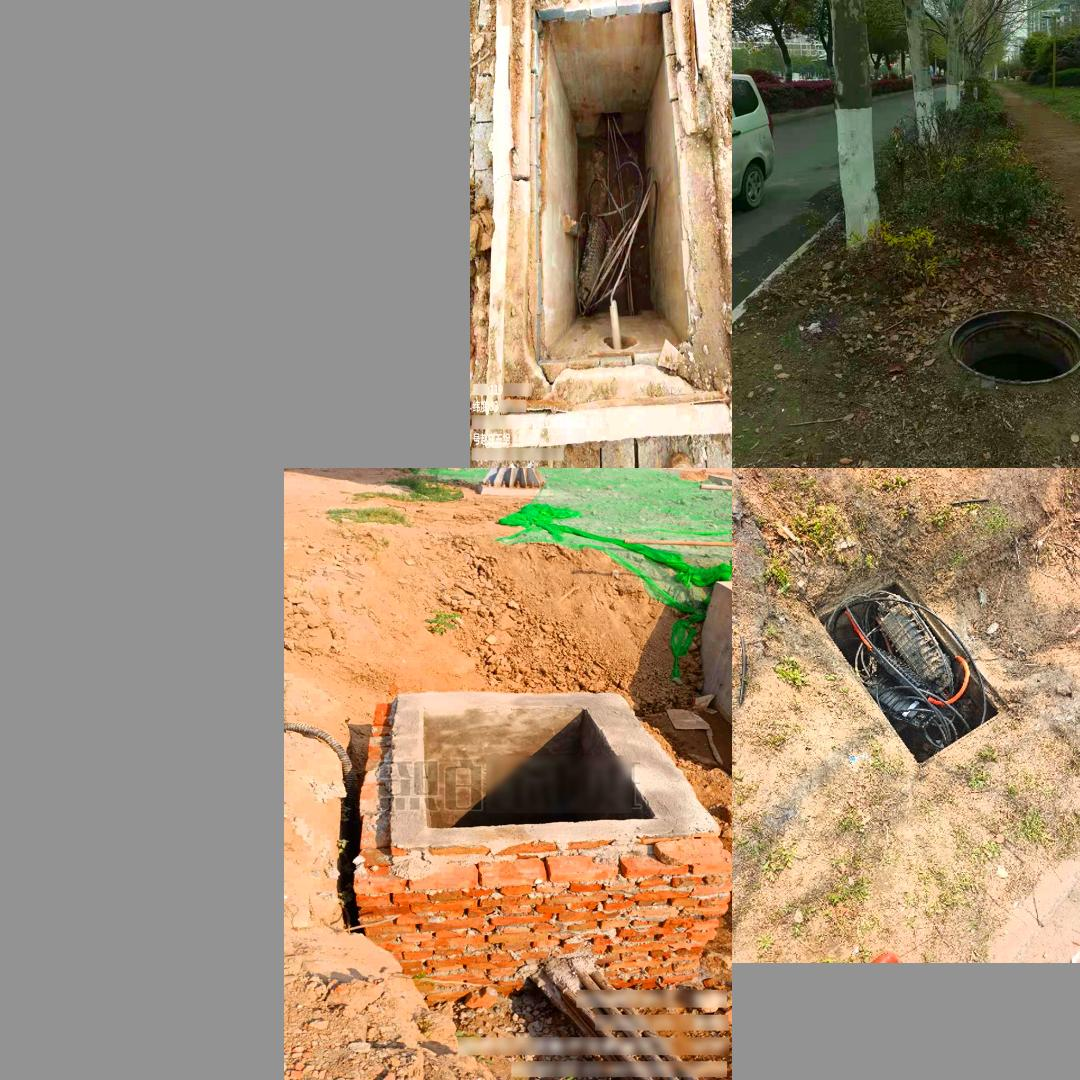lose: (484, 0, 732, 450), (389, 693, 719, 847), (807, 574, 1010, 767), (947, 307, 1080, 385)
